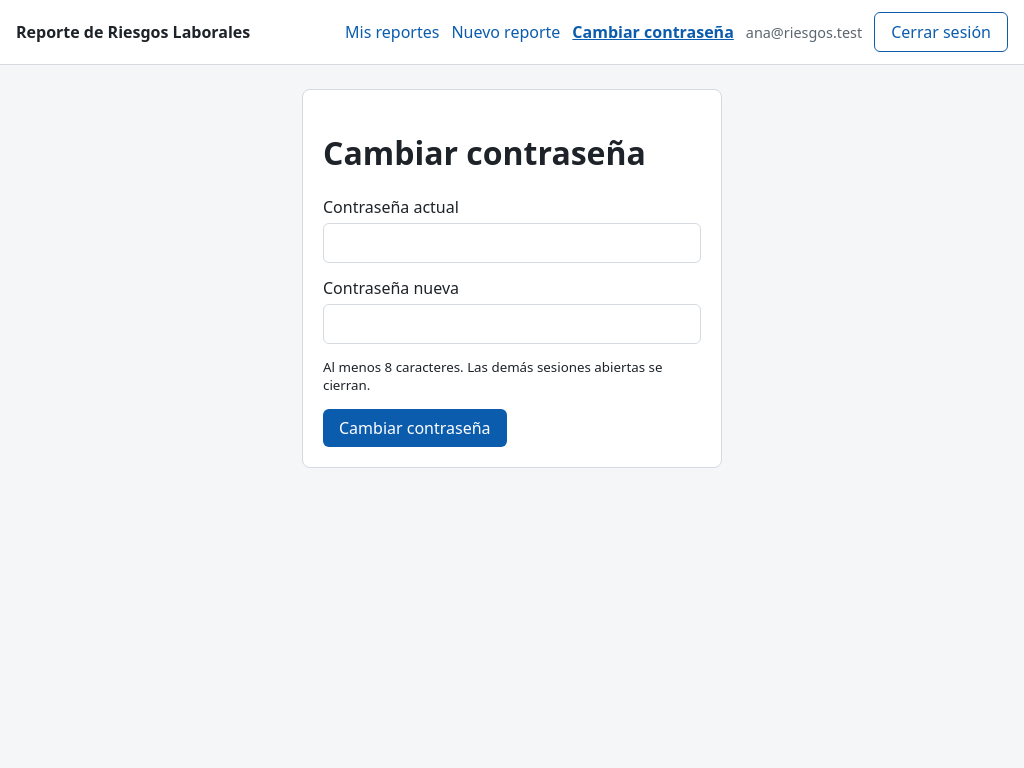
Test case: Cambiar contraseña › muestra el error si la actual es incorrecta
Type "Equivocada1" into the password field labelled "Contraseña actual". click: (512, 243)
box: x1=323 y1=223 x2=701 y2=263
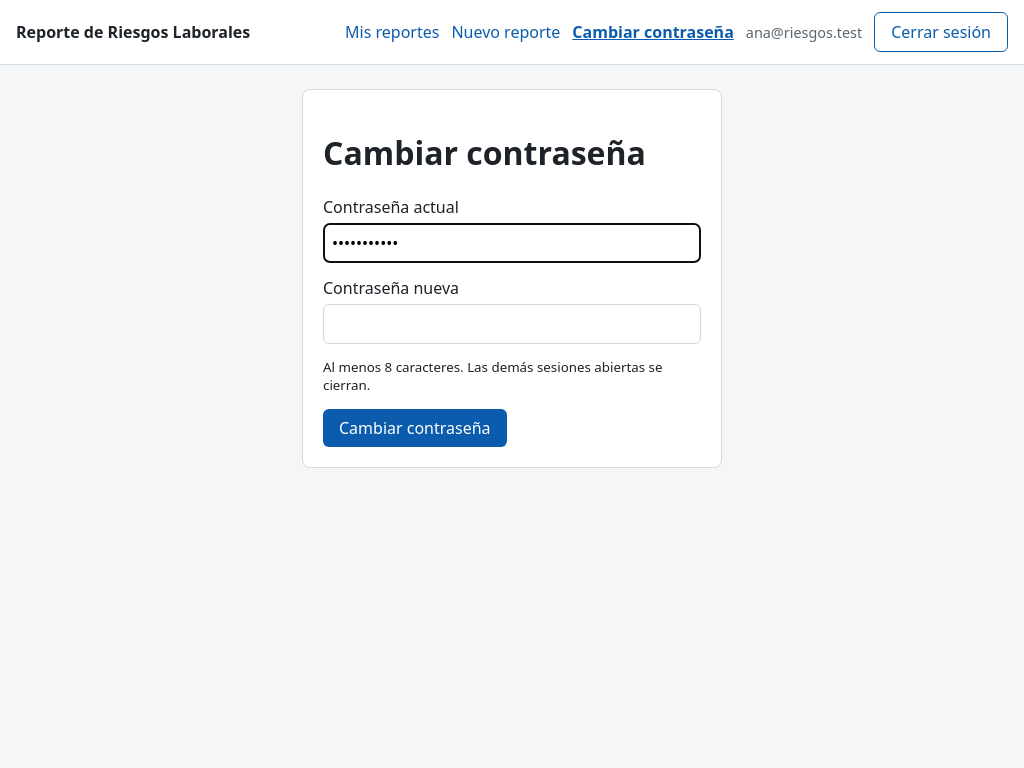
Type "NuevaClave2026" into the password field labelled "Contraseña nueva". click: (512, 324)
box: x1=323 y1=304 x2=701 y2=344
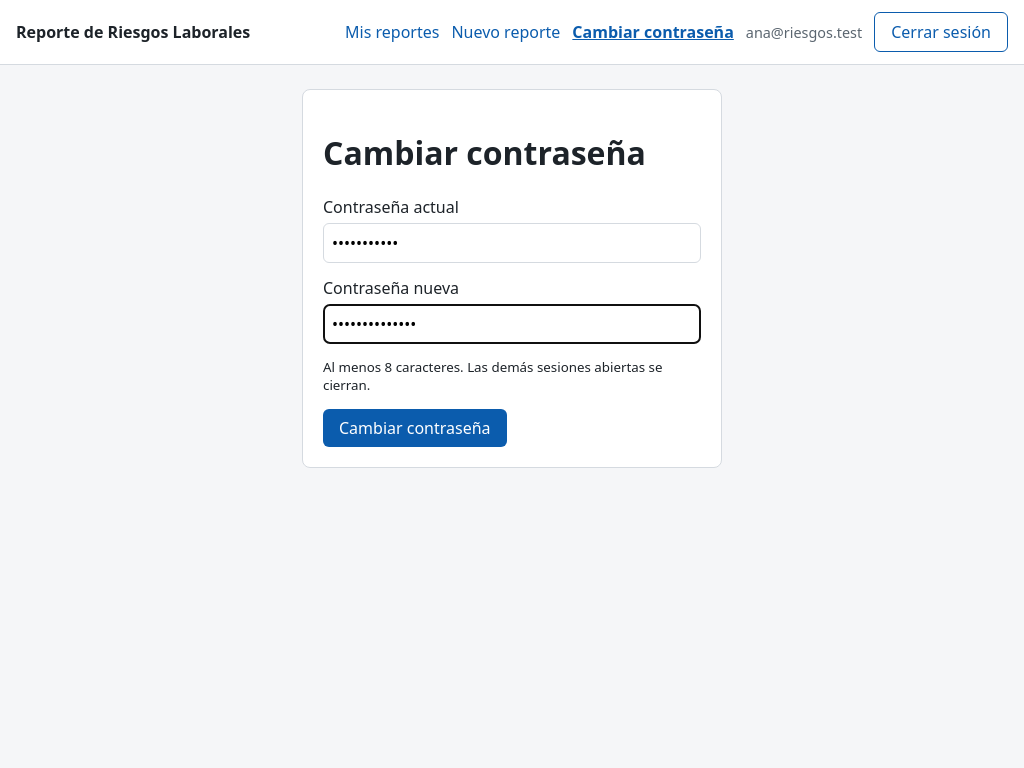
Click the button "Cambiar contraseña". click: (415, 428)
box: x1=323 y1=409 x2=507 y2=447
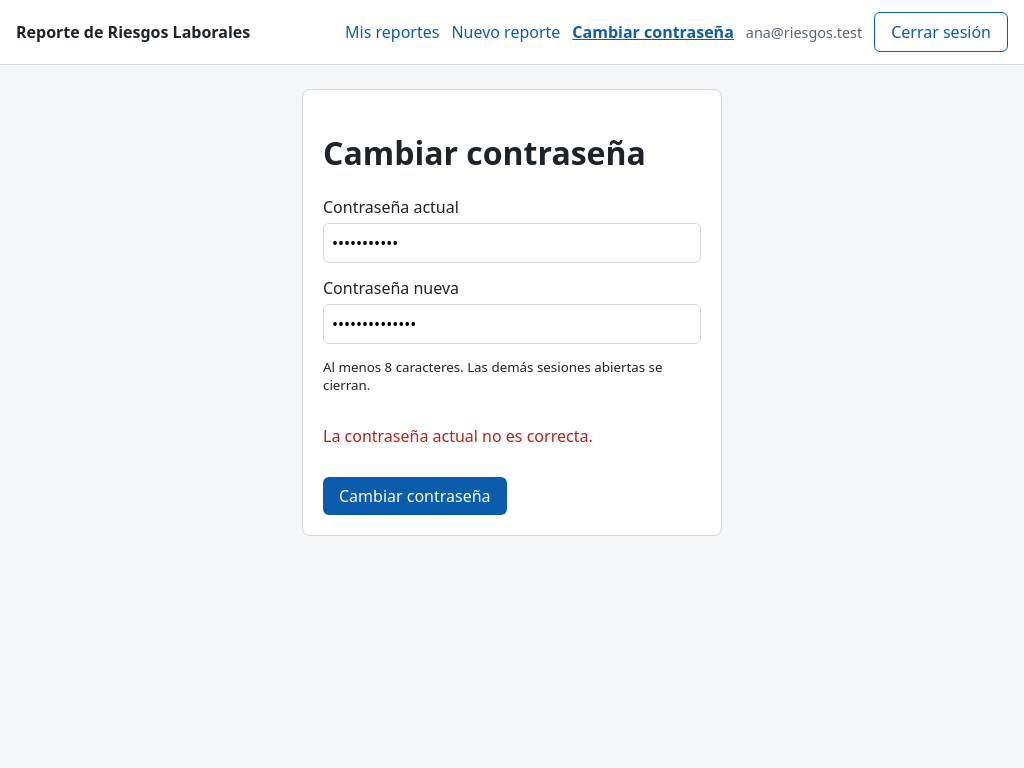
Result: the message reads "La contraseña actual no es correcta." at x1=323 y1=425 x2=593 y2=447
